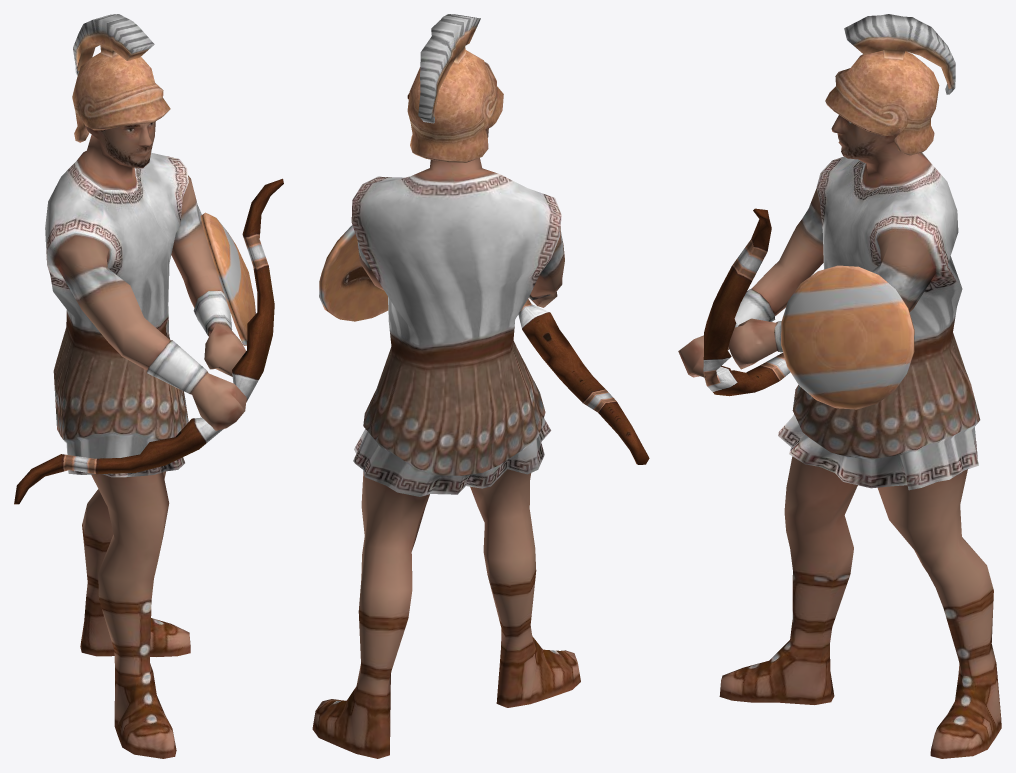
File: 3-toxotes.glb
3 views of the same model, side by side, from view 1: azimuth 30°, elevation 25°; view 2: azimuth 150°, elevation 25°; view 3: azimuth 270°, elevation 25° (orthographic). The views are drawn at different scales.
Size of the model in its own units: 0.926 by 2.21 by 0.9391.
4 materials, 4 textured.
